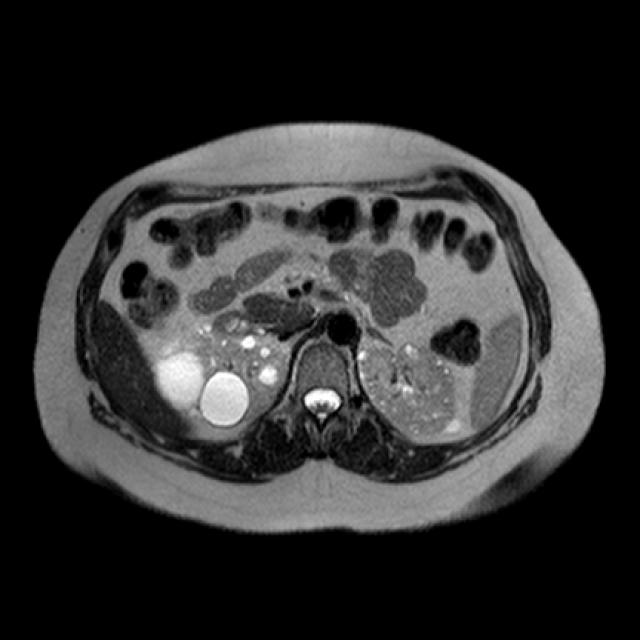sag: (151, 323, 288, 426)
sol: (356, 342, 464, 440)
